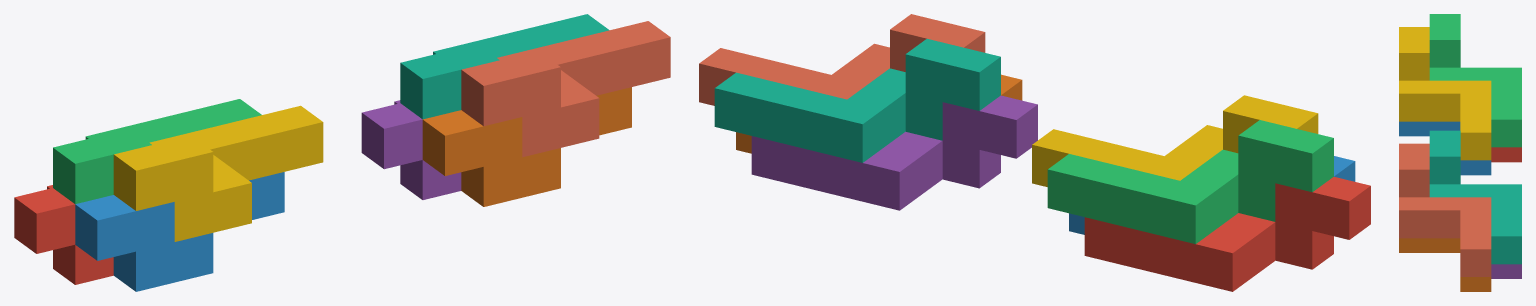
Rendered from tiling.obj.
3 renders of one model, left to right at view 1: azimuth 30°, elevation 25°; view 2: azimuth 150°, elevation 25°; view 3: azimuth 270°, elevation 25°, orthographic. The views are drawn at different scales.
Visible parts, largest first — view 1: copy_1_domain_4, copy_1_domain_8, copy_1_domain_6, copy_1_domain_2, copy_1_domain_7, copy_1_domain_3, copy_1_domain_5, copy_1_domain_1; view 2: copy_1_domain_7, copy_1_domain_3, copy_1_domain_1, copy_1_domain_5, copy_1_domain_8, copy_1_domain_4, copy_1_domain_6, copy_1_domain_2; view 3: copy_1_domain_8, copy_1_domain_4, copy_1_domain_7, copy_1_domain_3, copy_1_domain_6, copy_1_domain_2, copy_1_domain_1, copy_1_domain_5.
Boxes of the visible parts, bbox=[...] form: copy_1_domain_4: bbox=[113, 105, 323, 241]; copy_1_domain_8: bbox=[461, 21, 670, 157]; copy_1_domain_6: bbox=[422, 87, 631, 206]; copy_1_domain_2: bbox=[75, 172, 284, 291]; copy_1_domain_7: bbox=[400, 14, 609, 119]; copy_1_domain_3: bbox=[53, 99, 261, 204]; copy_1_domain_5: bbox=[361, 100, 461, 199]; copy_1_domain_1: bbox=[14, 185, 113, 284]; copy_1_domain_7: bbox=[714, 38, 1000, 162]; copy_1_domain_3: bbox=[1047, 120, 1333, 244]; copy_1_domain_1: bbox=[1084, 177, 1370, 291]; copy_1_domain_5: bbox=[751, 95, 1037, 210]; copy_1_domain_8: bbox=[699, 14, 985, 105]; copy_1_domain_4: bbox=[1032, 95, 1318, 186]; copy_1_domain_6: bbox=[736, 74, 1022, 153]; copy_1_domain_2: bbox=[1069, 156, 1355, 234]; copy_1_domain_8: bbox=[1399, 143, 1491, 276]; copy_1_domain_4: bbox=[1399, 27, 1491, 160]; copy_1_domain_7: bbox=[1429, 130, 1521, 264]; copy_1_domain_3: bbox=[1429, 14, 1521, 147]; copy_1_domain_6: bbox=[1399, 238, 1491, 291]; copy_1_domain_2: bbox=[1399, 121, 1491, 175]; copy_1_domain_1: bbox=[1491, 147, 1521, 162]; copy_1_domain_5: bbox=[1491, 264, 1521, 278].
Size of the model in its own units: 17 by 3 by 4.
